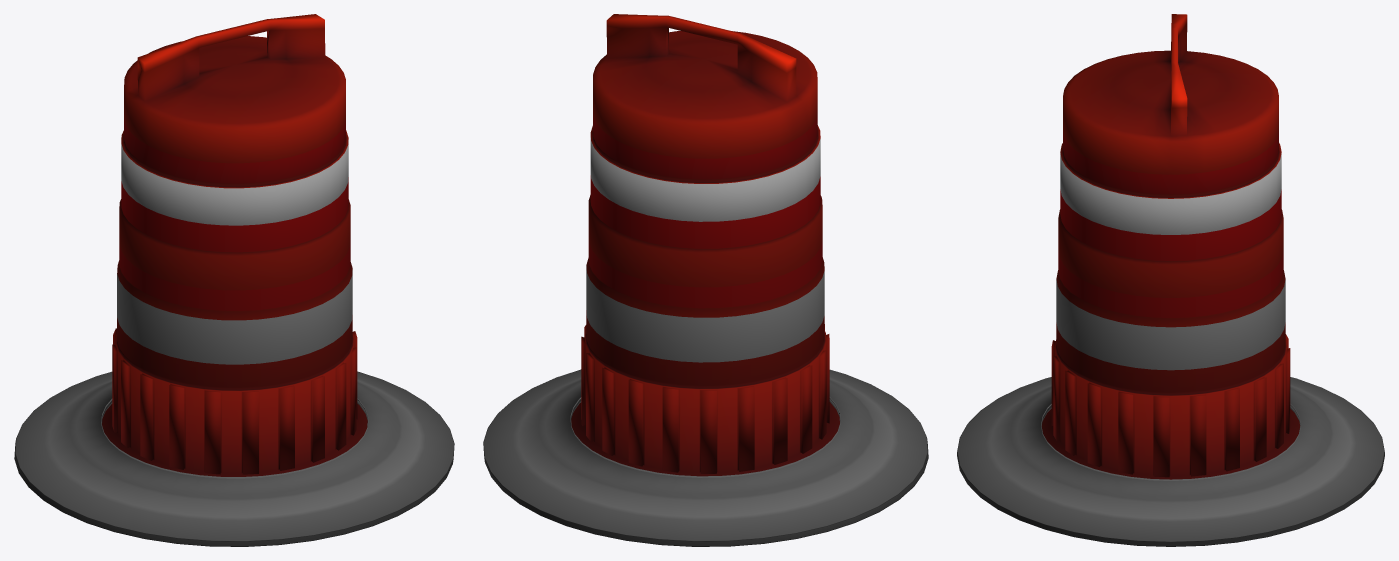
Rendered from nics_cone.dae.
3 renders of one model, left to right at view 1: azimuth 30°, elevation 25°; view 2: azimuth 150°, elevation 25°; view 3: azimuth 270°, elevation 25°, orthographic. The views are drawn at different scales.
Visible parts, largest first — view 1: Circle; view 2: Circle; view 3: Circle.
Boxes of the visible parts, x1=… form: Circle: x1=14, y1=14, x2=454, y2=546; Circle: x1=483, y1=14, x2=928, y2=546; Circle: x1=957, y1=14, x2=1384, y2=546.
Bounding box in the file's own units: 3.6 × 3.59 × 3.83.
